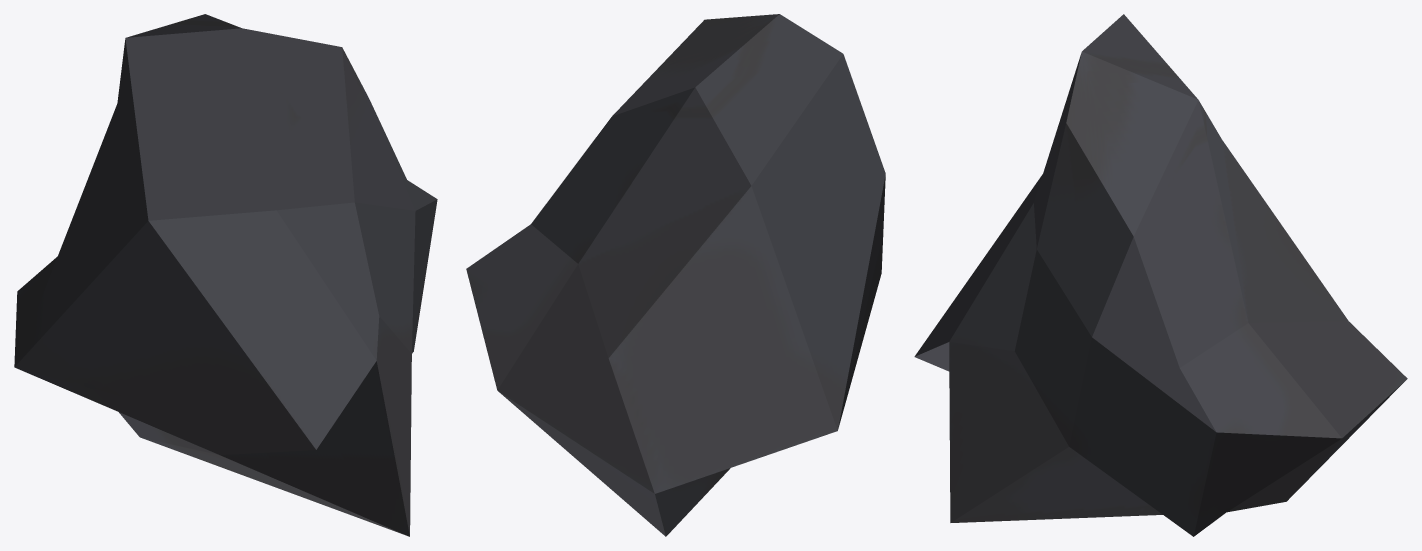
Rendered from roca_3.fbx.
3 renders of one model, left to right at view 1: azimuth 30°, elevation 25°; view 2: azimuth 150°, elevation 25°; view 3: azimuth 270°, elevation 25°, orthographic. The views are drawn at different scales.
Parts seen in each view (by area): view 1: Plane.006; view 2: Plane.006; view 3: Plane.006.
Boxes of the visible parts, x1,y1,x2,y2 form: Plane.006: (14,14,437,536); Plane.006: (466,14,885,536); Plane.006: (914,14,1407,536).
Size of the model in its own units: 247 by 281 by 282.
